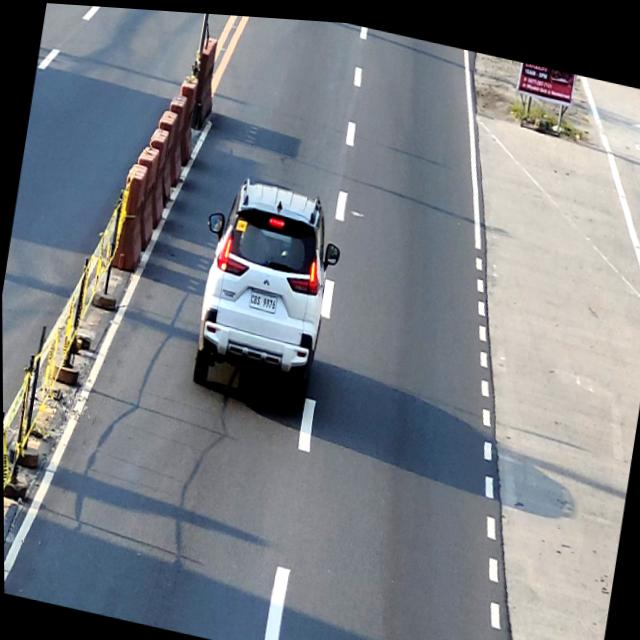Car: (182, 165, 349, 416)
License-Plate: (247, 287, 277, 311)
